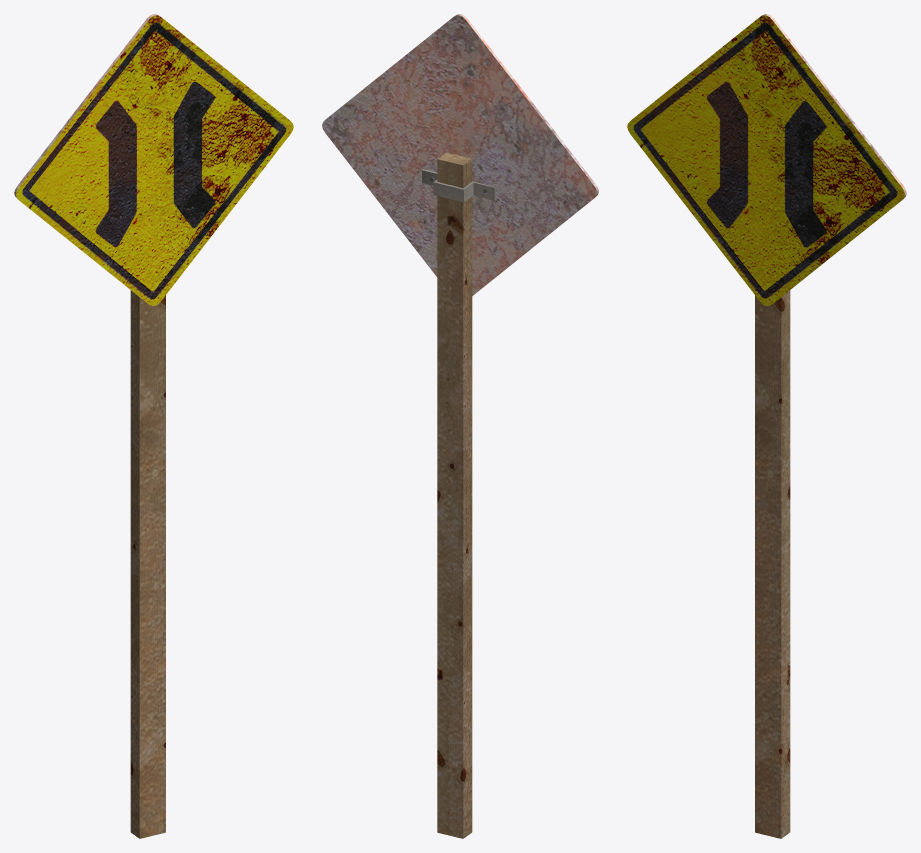
The model's file is Bridge_sign.FBX.
3 renders of one model, left to right at view 1: azimuth 30°, elevation 25°; view 2: azimuth 150°, elevation 25°; view 3: azimuth 330°, elevation 25°, orthographic.
Visible parts, largest first — view 1: Bridge_sign; view 2: Bridge_sign; view 3: Bridge_sign.
Boxes of the visible parts, box(x1,y1,x2,y2) form: Bridge_sign: box(14, 14, 293, 838); Bridge_sign: box(322, 14, 598, 838); Bridge_sign: box(627, 14, 906, 838).
Bounding box in the file's own units: 104 × 293 × 8.22.
